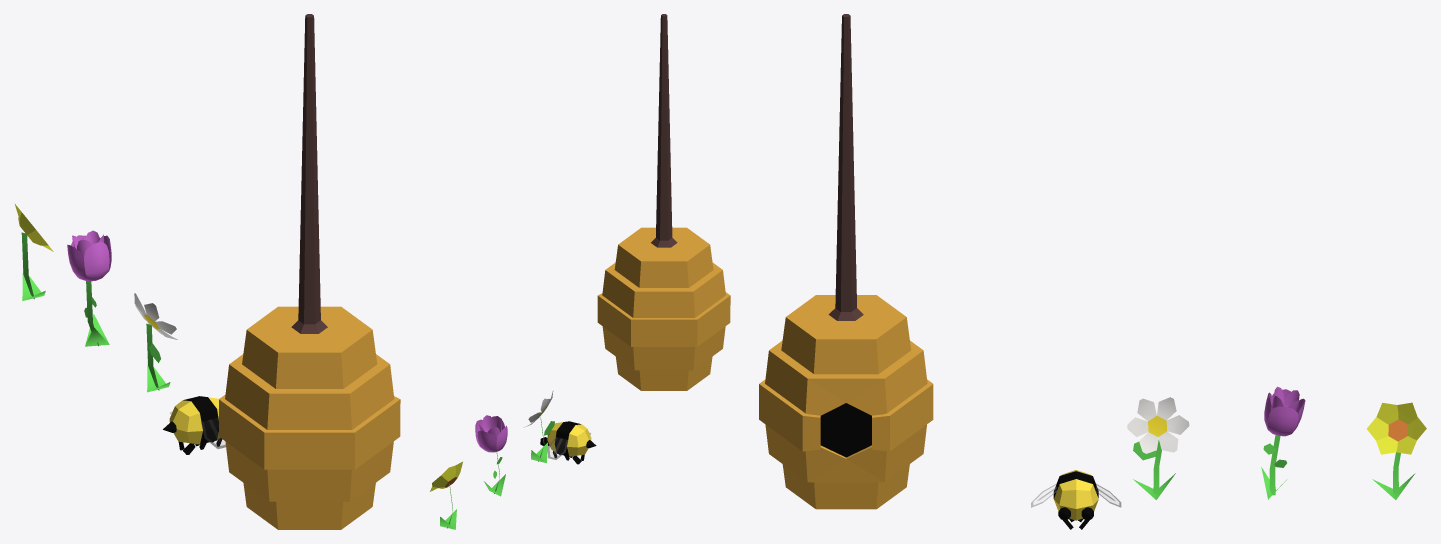
File: Bee.glb
3 renders of one model, left to right at view 1: azimuth 30°, elevation 25°; view 2: azimuth 150°, elevation 25°; view 3: azimuth 270°, elevation 25°, orthographic. The views are drawn at different scales.
Visible parts, largest first — view 1: Hive, Flower 2, Bee, Flower 1, Flower 3; view 2: Hive, Bee, Flower 2, Flower 3, Flower 1; view 3: Hive, Flower 1, Flower 3, Bee, Flower 2.
Boxes of the visible parts, x1,y1,x2,y2 form: Hive: (219, 14, 400, 529); Flower 2: (67, 230, 111, 346); Bee: (163, 396, 225, 454); Flower 1: (134, 293, 177, 392); Flower 3: (15, 204, 53, 300); Hive: (597, 14, 730, 390); Bee: (540, 421, 596, 464); Flower 2: (475, 415, 507, 496); Flower 3: (430, 461, 462, 529); Flower 1: (524, 390, 554, 463); Hive: (759, 14, 933, 509); Flower 1: (1127, 397, 1189, 499); Flower 3: (1367, 402, 1426, 499); Bee: (1031, 470, 1121, 529); Flower 2: (1261, 386, 1305, 499).
Size of the model in its own units: 1.44 by 5.28 by 6.35.
